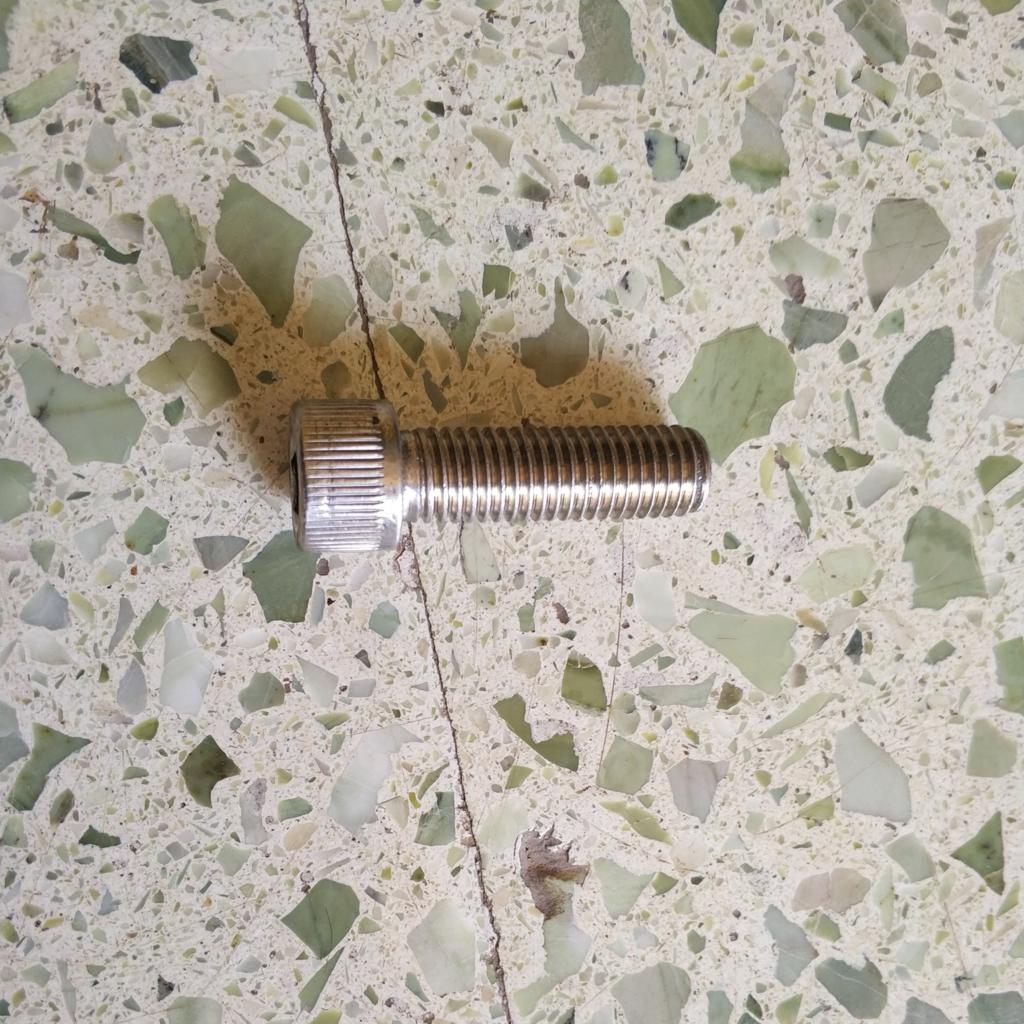screwtype1silver: (280, 384, 716, 561)
